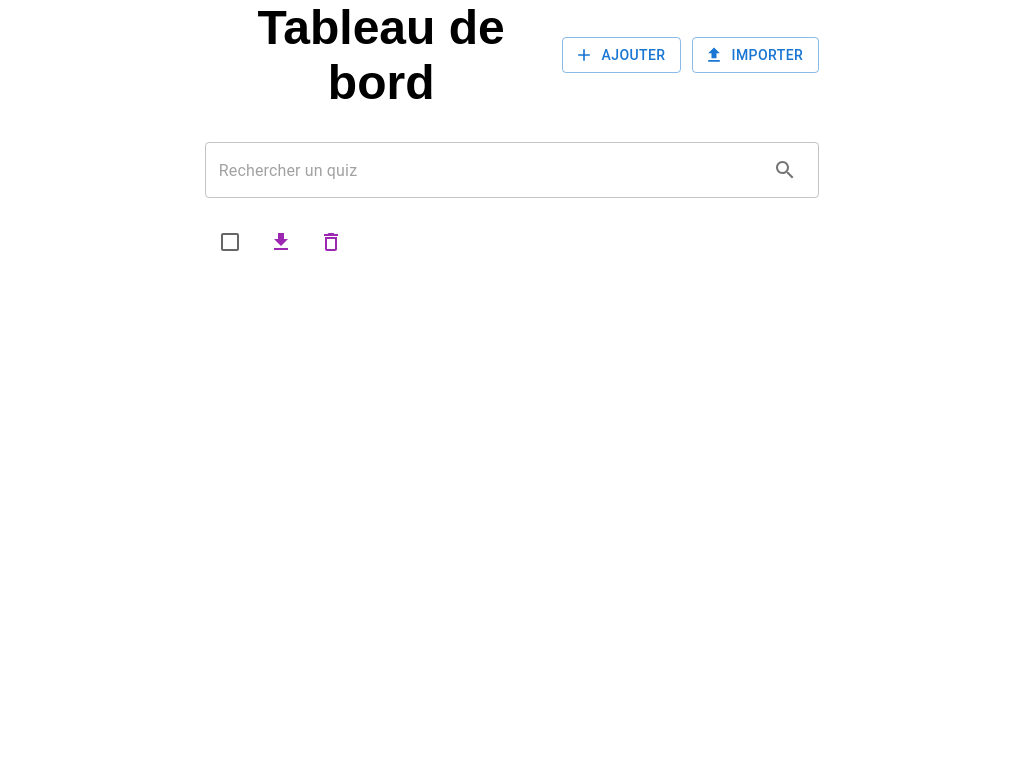
Test: Dashboard Component › opens ImportModal when "Importer" button is clicked
Click the button "Importer".
click(755, 55)  # box [692,37,819,73]
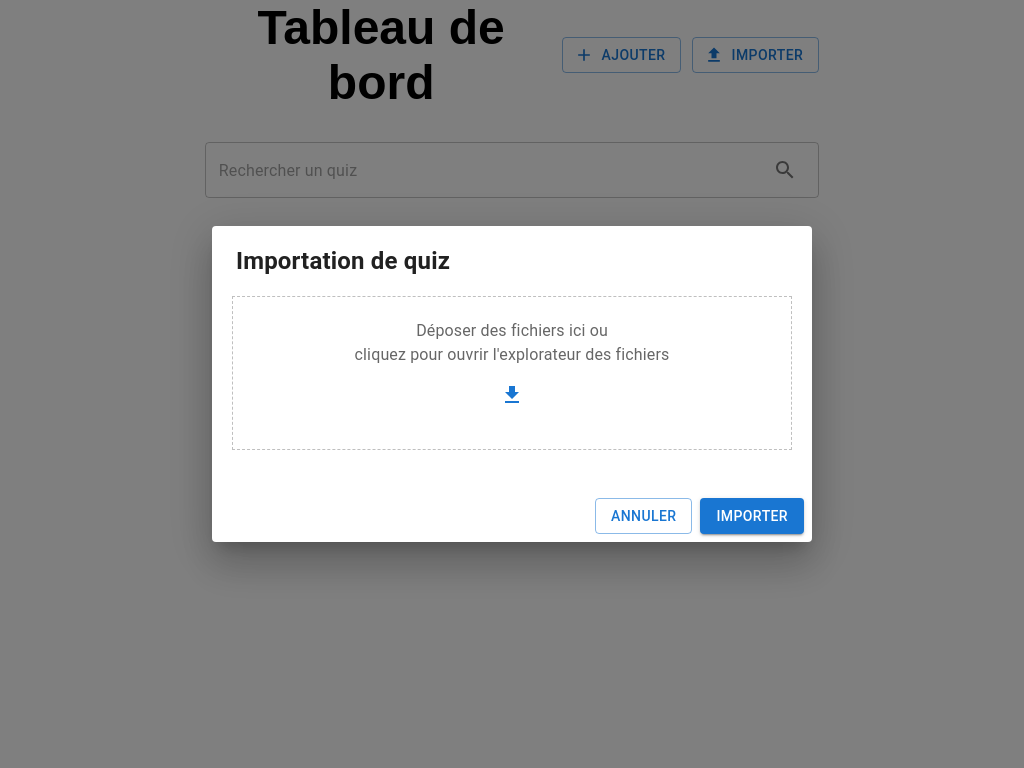
Check: the heading "Importation de quiz" is shown, box [236,247,450,275]
